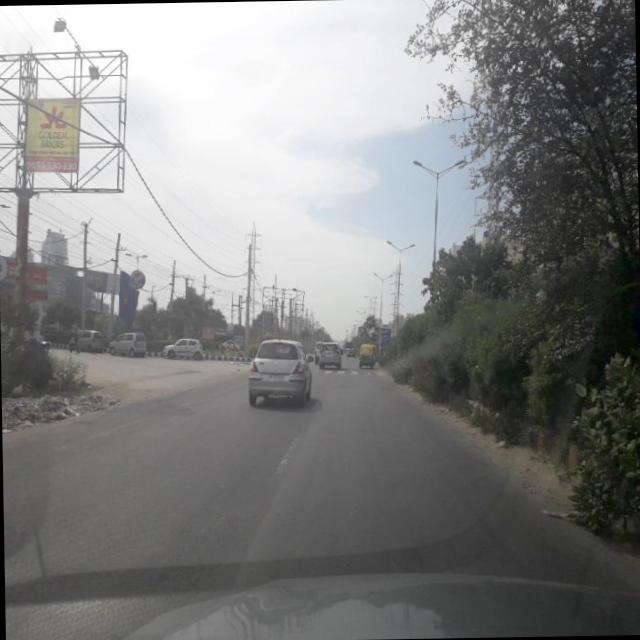crack: (22, 425, 550, 582)
